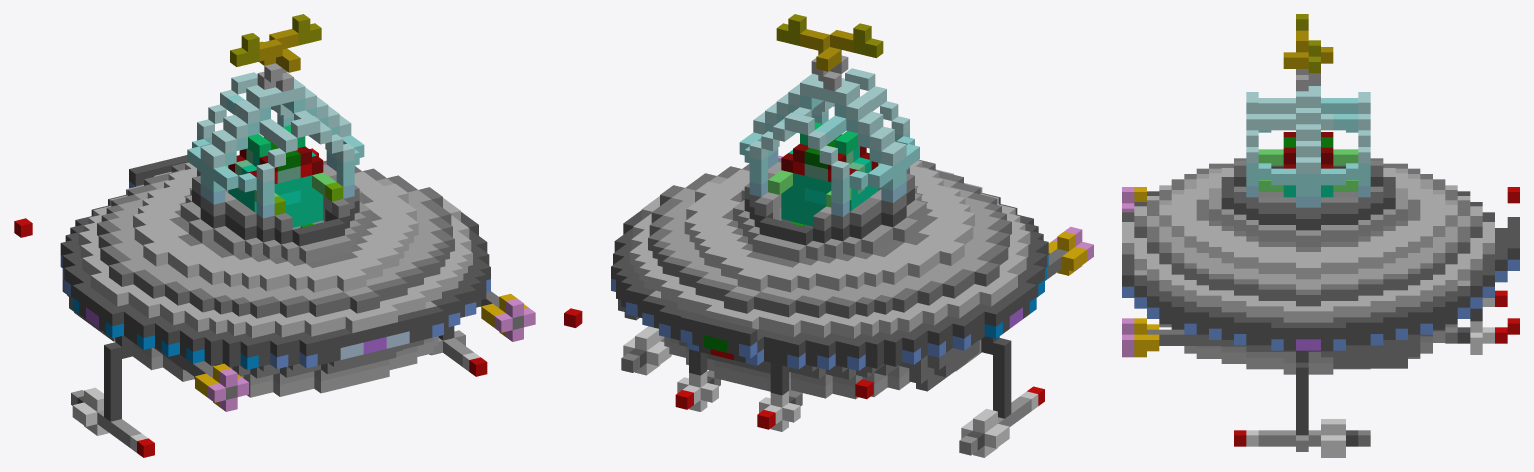
The picture shows the model from 3 angles, left to right: view 1: azimuth 30°, elevation 25°; view 2: azimuth 150°, elevation 25°; view 3: azimuth 270°, elevation 25°; orthographic projection. The views are drawn at different scales.
Bounding box in the file's own units: 1.6 × 1.55 × 1.6.
